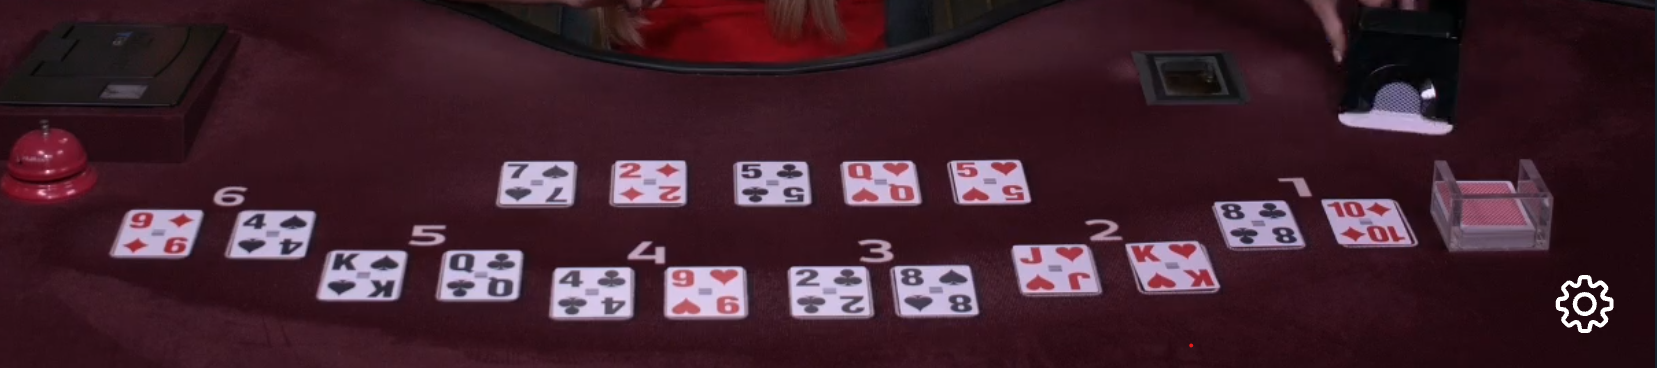10d: (1319, 194, 1418, 251)
2c: (788, 263, 879, 325)
2d: (609, 158, 690, 211)
4c: (550, 264, 639, 321)
4s: (217, 202, 316, 266)
5c: (733, 157, 813, 211)
5h: (946, 157, 1035, 208)
7s: (496, 157, 579, 211)
8c: (1210, 195, 1311, 255)
8s: (888, 262, 985, 320)
9d: (116, 205, 209, 263)
9h: (663, 263, 755, 323)
jh: (1008, 242, 1106, 297)
kh: (1122, 238, 1222, 298)
ks: (312, 250, 406, 303)
qc: (425, 245, 530, 306)
qh: (837, 157, 925, 211)
